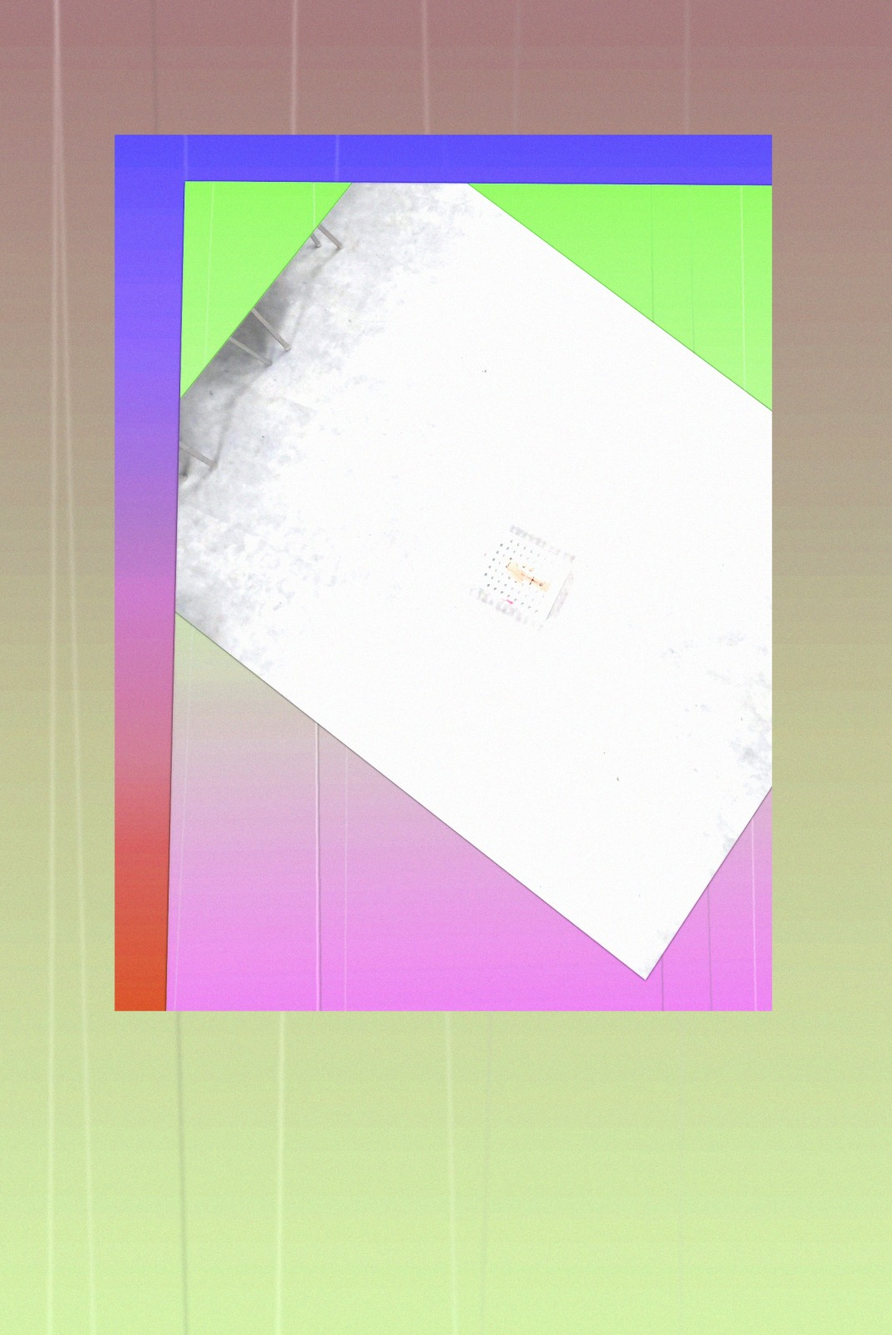basket: (473, 528, 581, 626)
mannequin: (502, 559, 551, 592)
